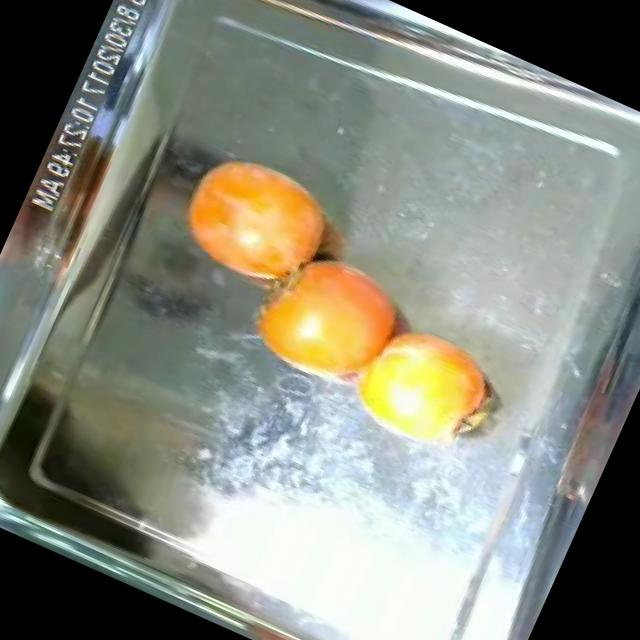Fruit: (226, 224, 428, 414), (160, 130, 354, 306), (330, 301, 518, 476)
